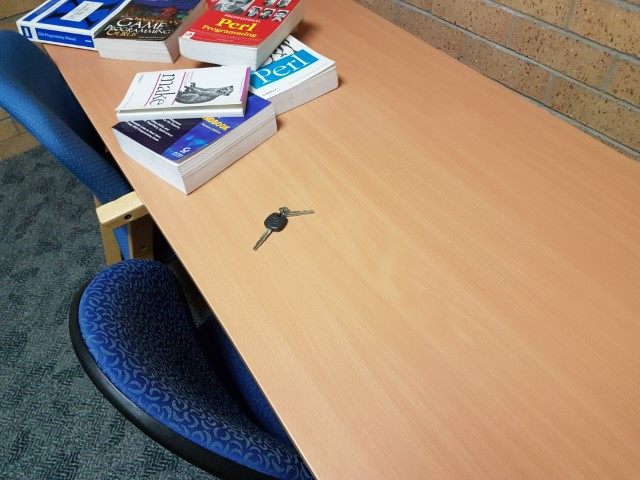key: (252, 212, 288, 251)
